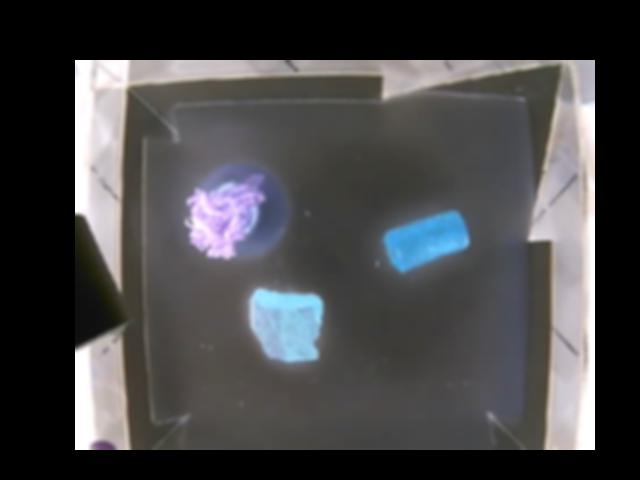Brisk: (248, 285, 320, 363)
Carrot: (386, 210, 469, 270)
Mooli: (183, 160, 291, 261)
